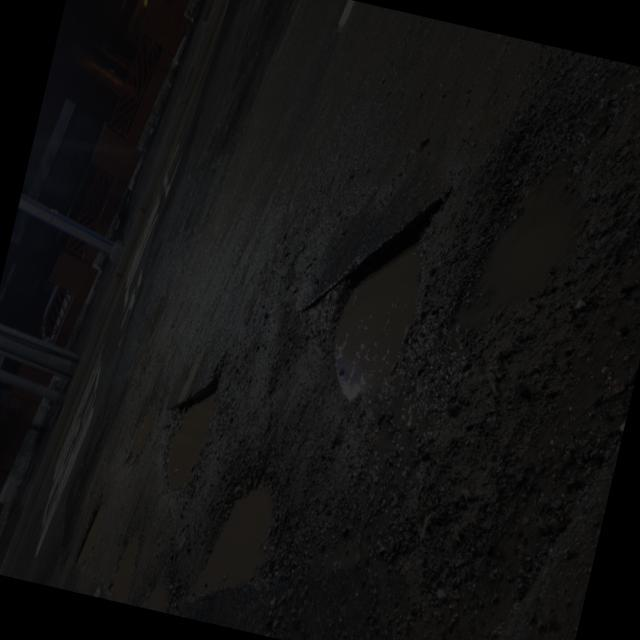pothole: (436, 121, 630, 390), (292, 189, 448, 428), (182, 450, 306, 632), (143, 349, 238, 494), (65, 489, 111, 588), (116, 383, 162, 471), (106, 524, 144, 604)
